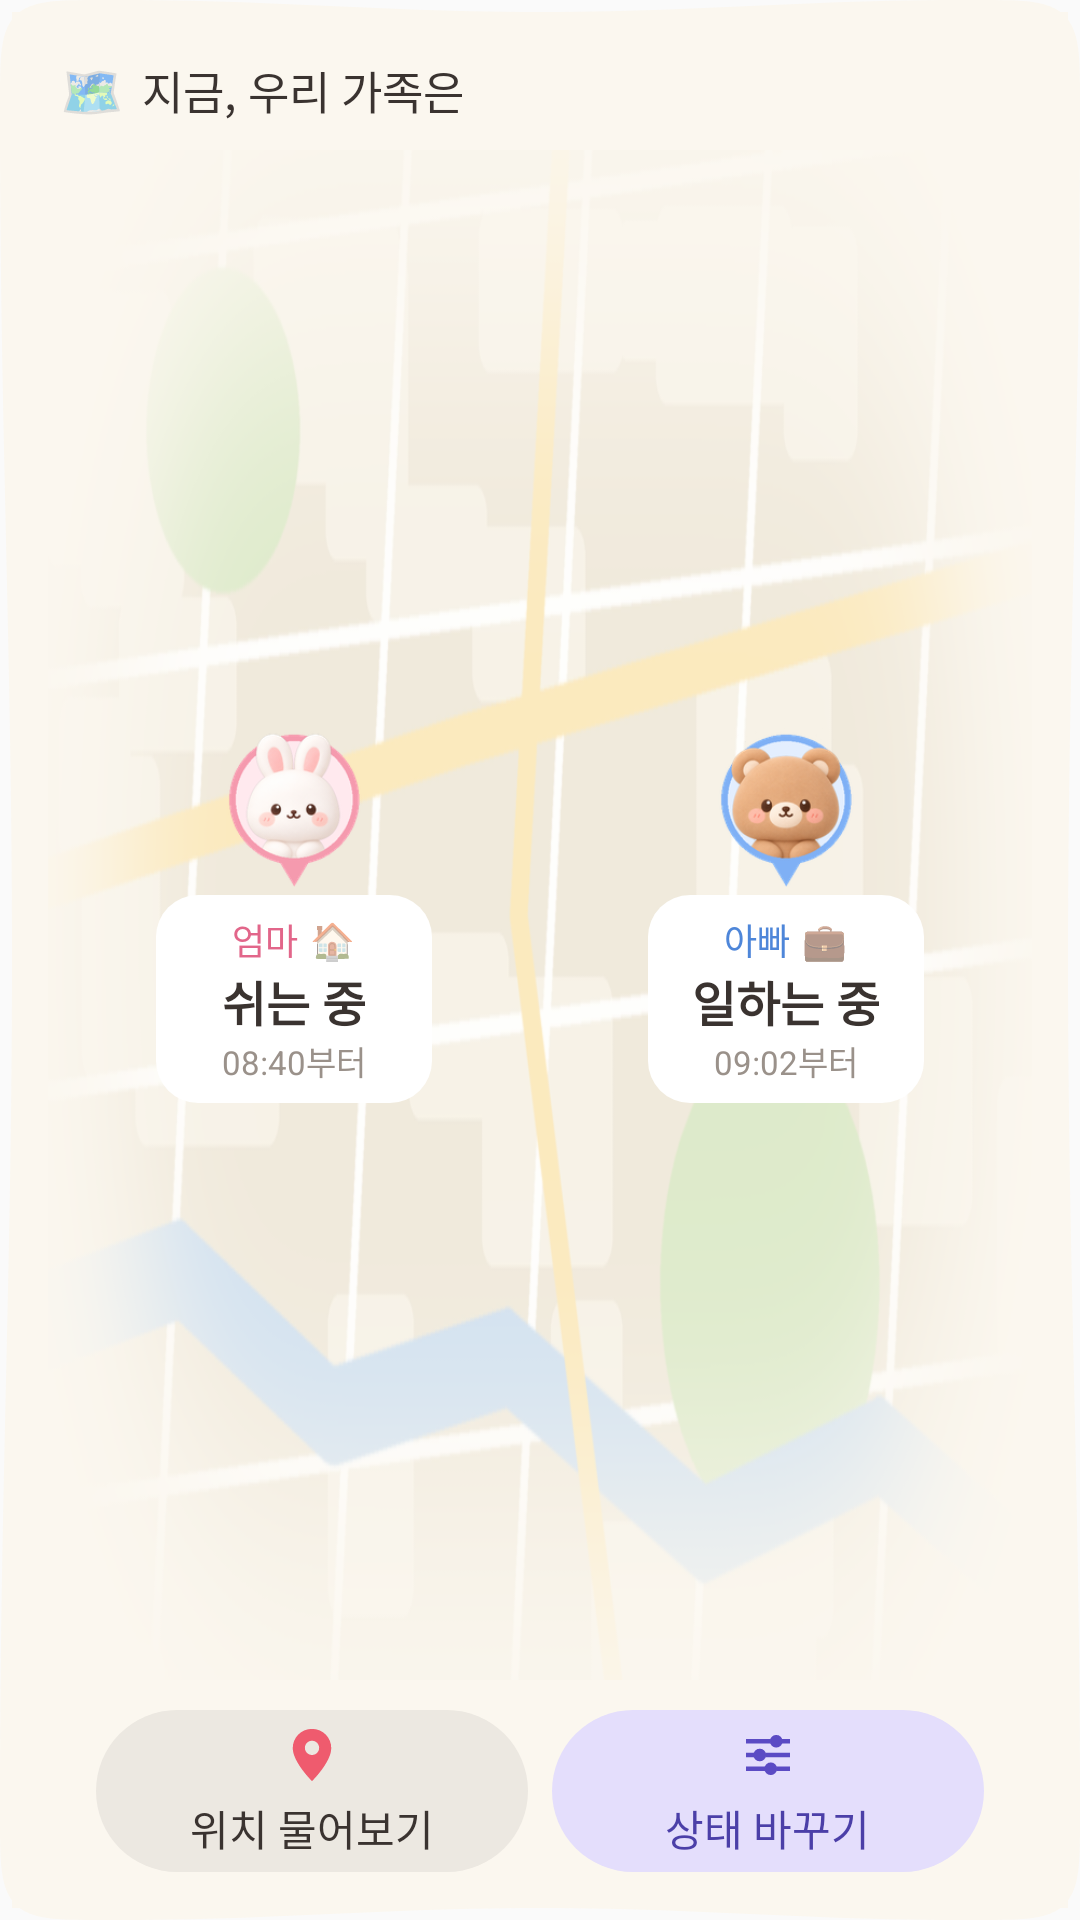

Icon bounding boxes for this 1080px×1920px phone screenshot, format (x1, y1, x2, y2):
widget pin: (292, 1729, 332, 1781)
widget sliders: (746, 1735, 790, 1775)
